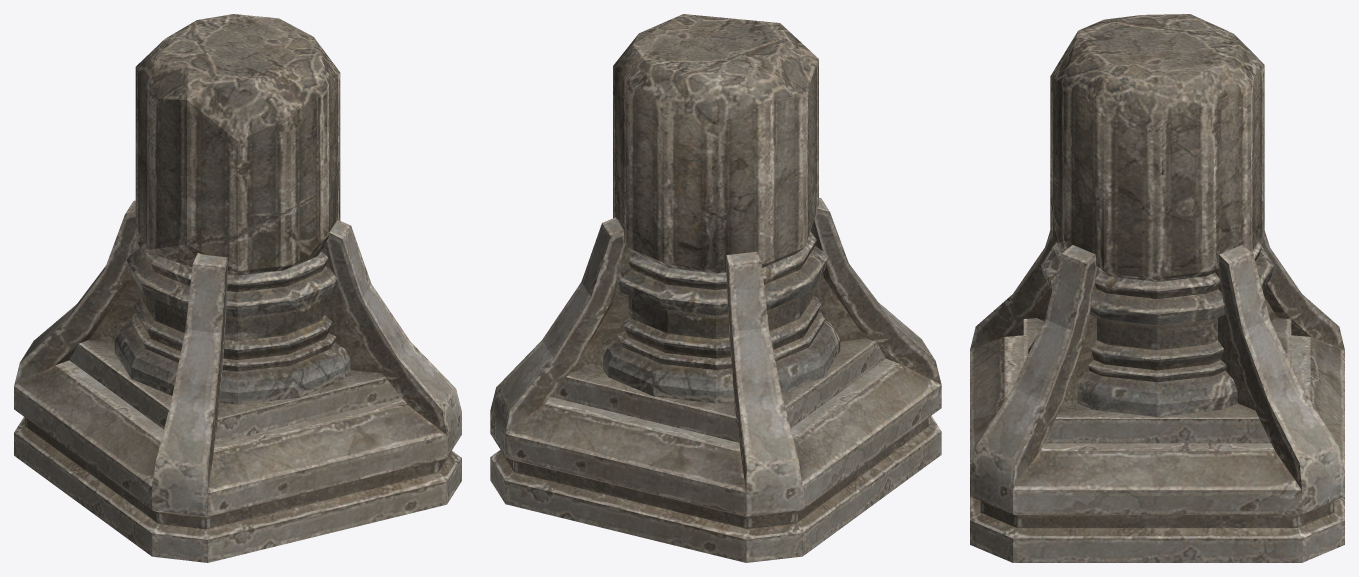
The model's file is bg_lut_lutomb_pillar02_sm_old.FBX.
3 views of the same model, side by side, from view 1: azimuth 30°, elevation 25°; view 2: azimuth 150°, elevation 25°; view 3: azimuth 270°, elevation 25° (orthographic). The views are drawn at different scales.
Visible parts, largest first — view 1: bg_lut_lutomb_pillar02_sm_old; view 2: bg_lut_lutomb_pillar02_sm_old; view 3: bg_lut_lutomb_pillar02_sm_old.
Boxes of the visible parts, <box> form: bg_lut_lutomb_pillar02_sm_old: <box>14,14,461,562</box>; bg_lut_lutomb_pillar02_sm_old: <box>490,14,941,562</box>; bg_lut_lutomb_pillar02_sm_old: <box>970,14,1344,562</box>.
Bounding box in the file's own units: 224 × 290 × 224.
